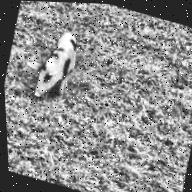boar: (18, 23, 84, 106)
